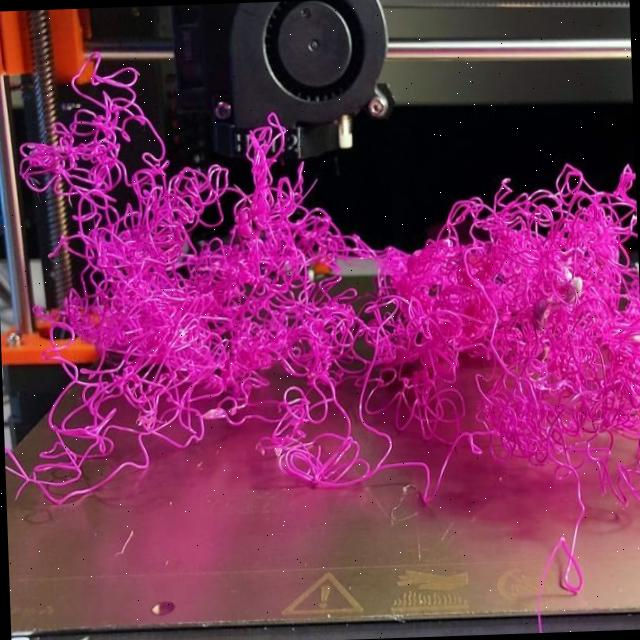spaghetti: (13, 28, 640, 571)
